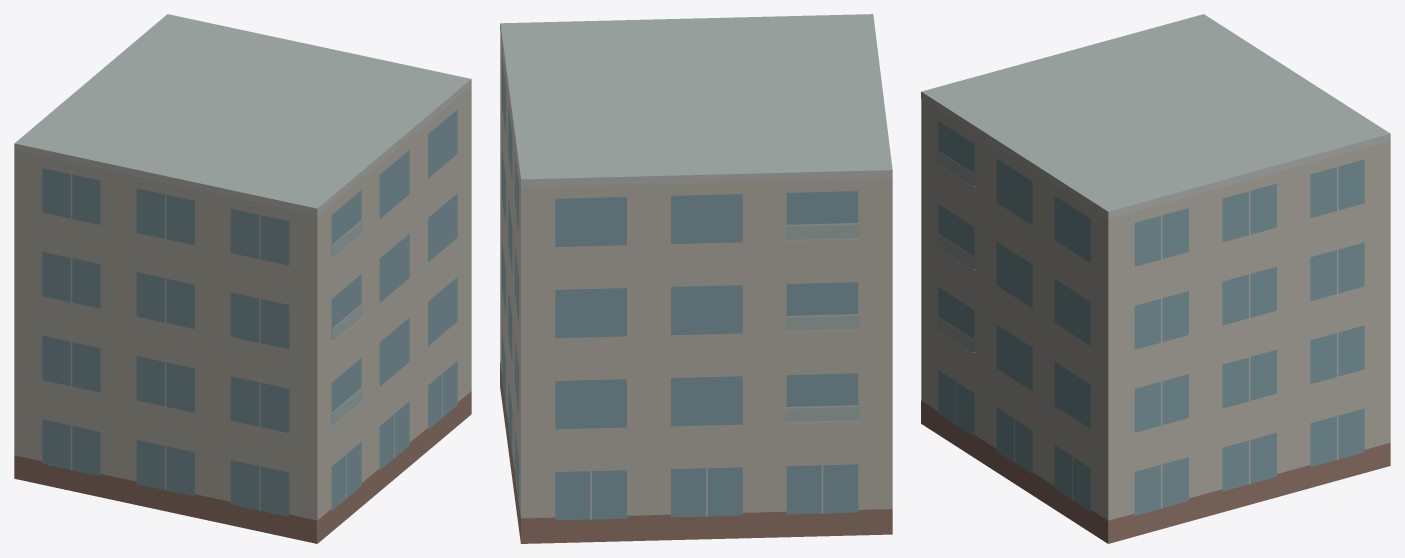
Rendered from survey-upis-32606086.glb.
The picture shows the model from 3 angles, left to right: view 1: azimuth 30°, elevation 25°; view 2: azimuth 150°, elevation 25°; view 3: azimuth 270°, elevation 25°; orthographic projection. The views are drawn at different scales.
Visible parts, largest first — view 1: survey-upis-32606086.tmp; view 2: survey-upis-32606086.tmp; view 3: survey-upis-32606086.tmp.
Boxes of the visible parts, x1,y1,x2,y2 form: survey-upis-32606086.tmp: (14, 14, 471, 543); survey-upis-32606086.tmp: (500, 14, 892, 543); survey-upis-32606086.tmp: (921, 14, 1390, 543).
Size of the model in its own units: 14.63 by 11.45 by 14.68.
